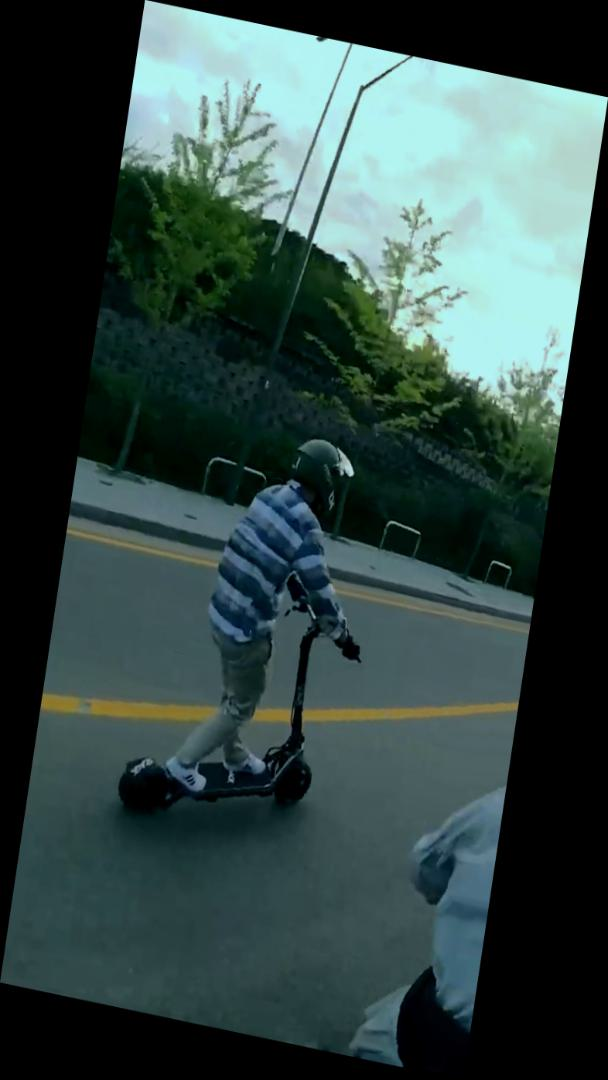helmet: (109, 405, 397, 863)
